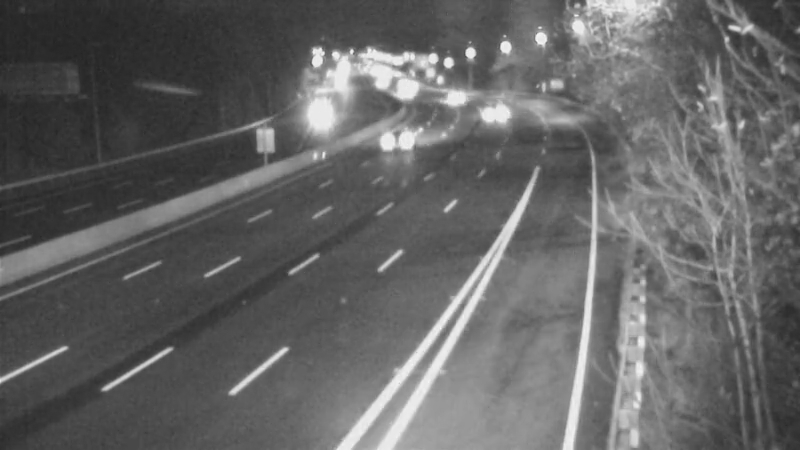vehicle: (430, 71, 480, 121), (380, 69, 430, 119), (468, 92, 518, 142), (376, 113, 426, 163), (292, 90, 342, 140)
